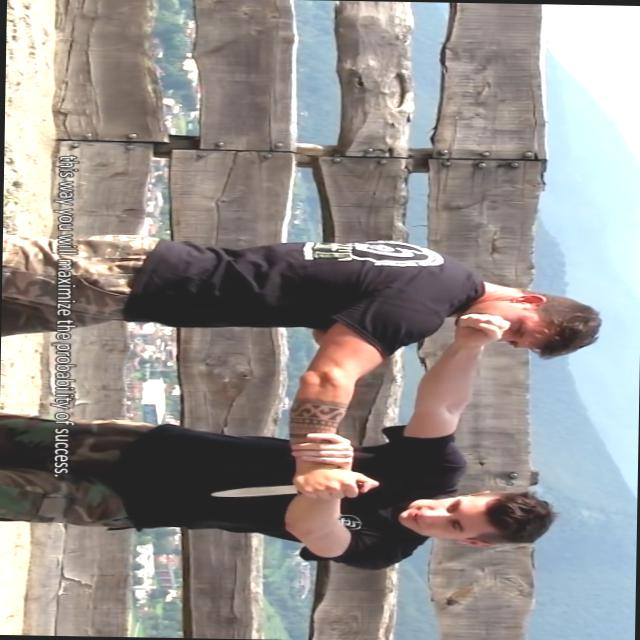knife: (207, 469, 382, 504)
